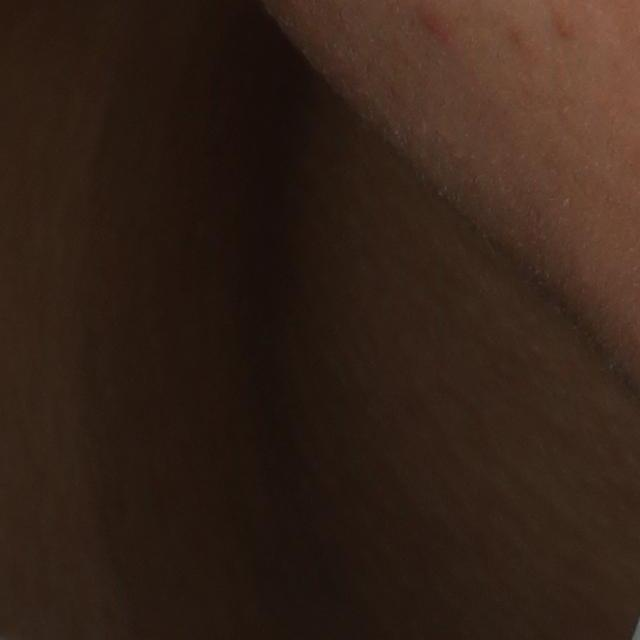papule: (416, 4, 451, 38)
